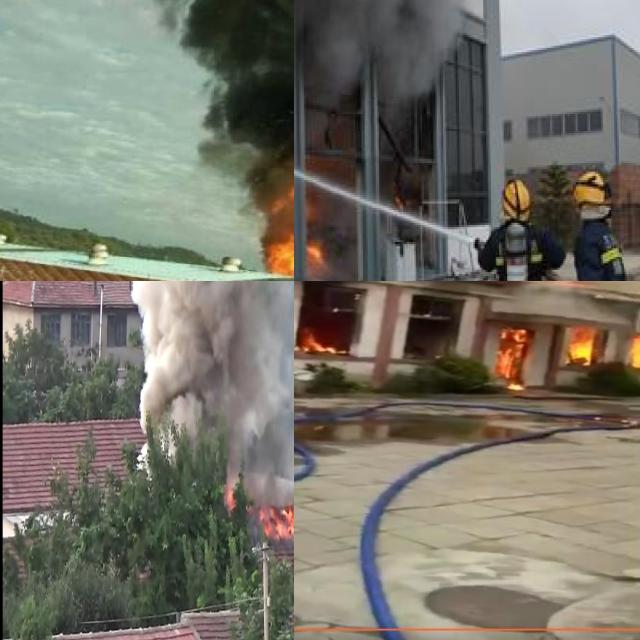fire: (261, 171, 294, 279), (494, 327, 531, 386), (255, 496, 294, 545), (562, 324, 598, 365), (297, 325, 345, 354), (304, 236, 323, 261), (223, 478, 237, 511), (627, 333, 640, 367)
smoke: (133, 281, 294, 487), (146, 0, 294, 163)
